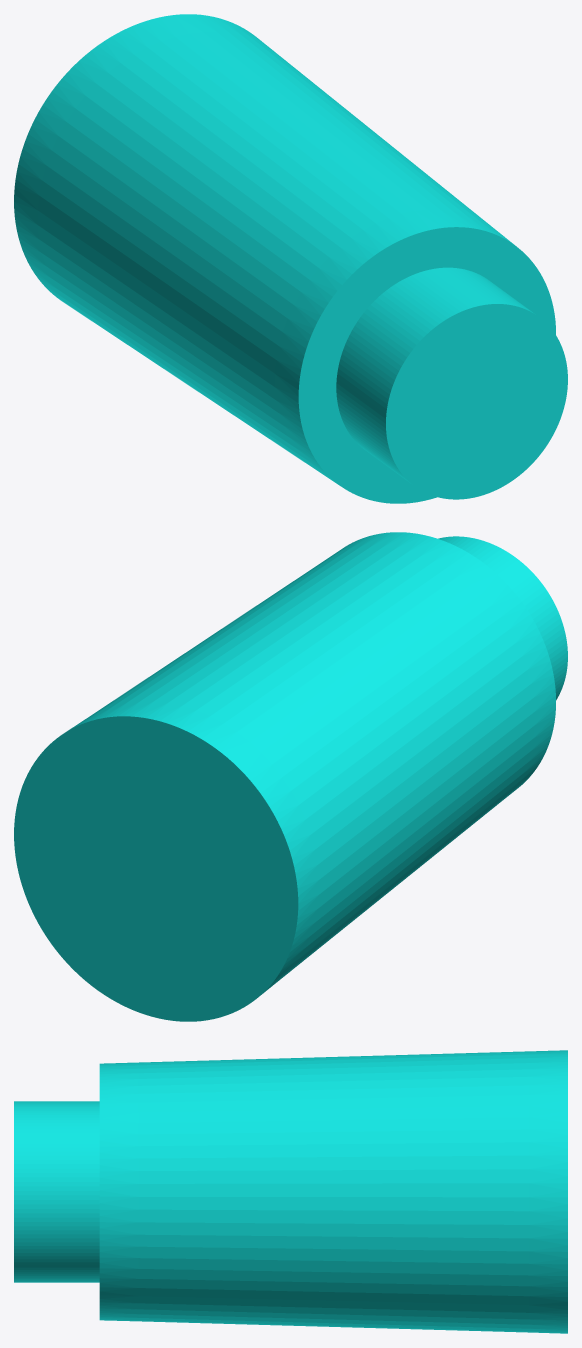
The picture shows the model from 3 angles, top to bottom: view 1: azimuth 30°, elevation 25°; view 2: azimuth 150°, elevation 25°; view 3: azimuth 270°, elevation 25°; orthographic projection. The views are drawn at different scales.
Visible parts, largest first — view 1: node; view 2: node; view 3: node.
Boxes of the visible parts, bbox=[...] form: node: bbox=[14, 14, 567, 503]; node: bbox=[14, 532, 567, 1021]; node: bbox=[14, 1050, 567, 1333].
Bounding box in the file's own units: 0.0908 × 0.0908 × 0.1774.
